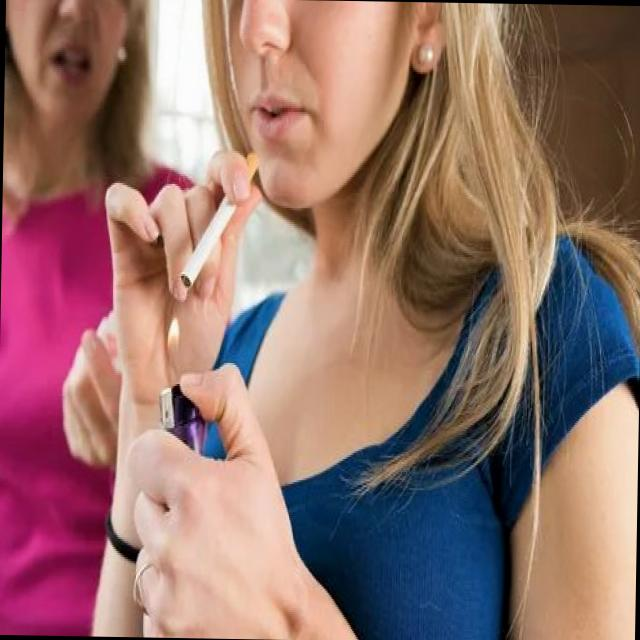smoke: (178, 142, 261, 292)
